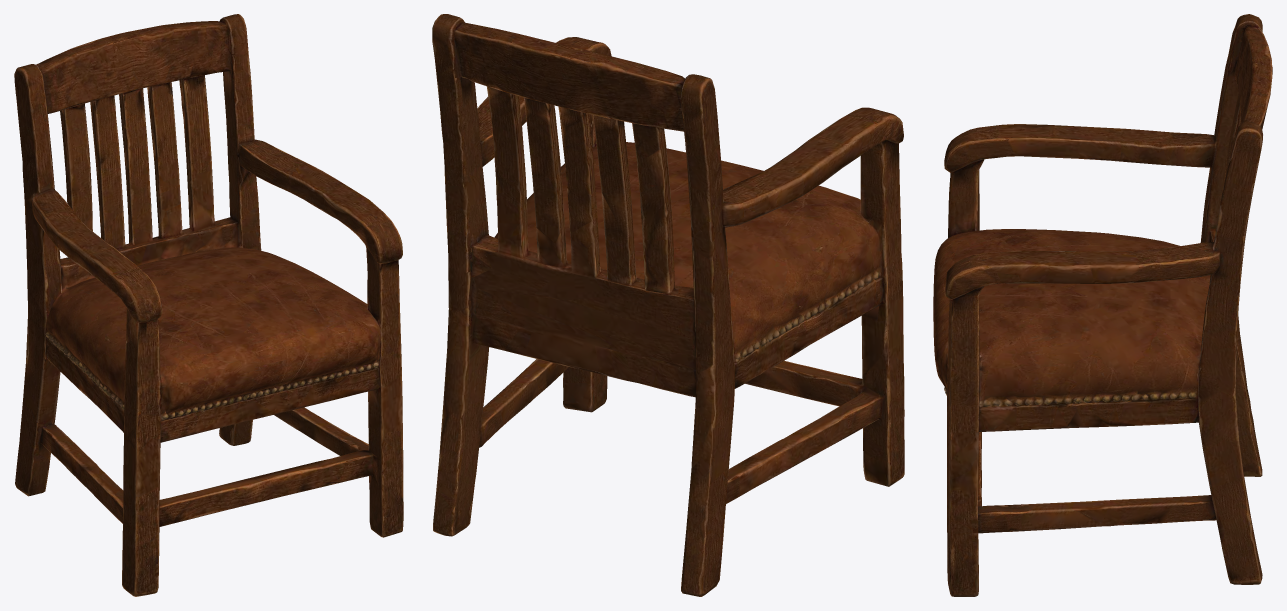
File: client.glb
3 renders of one model, left to right at view 1: azimuth 30°, elevation 25°; view 2: azimuth 150°, elevation 25°; view 3: azimuth 270°, elevation 25°, orthographic. The views are drawn at different scales.
Bounding box in the file's own units: 1.26 × 1.9 × 1.27.
1 material, 1 textured.
